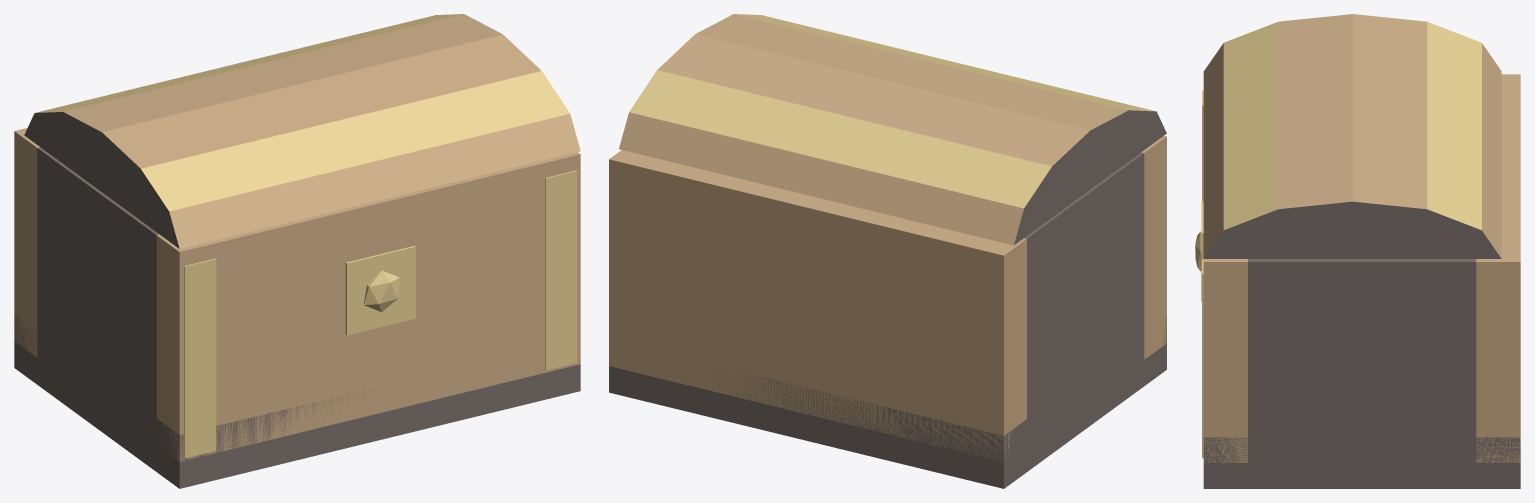
Rendered from world_loot_chest.fbx.
3 views of the same model, side by side, from view 1: azimuth 30°, elevation 25°; view 2: azimuth 150°, elevation 25°; view 3: azimuth 270°, elevation 25° (orthographic). The views are drawn at different scales.
Visible parts, largest first — view 1: Body, Lid; view 2: Body, Lid; view 3: Body, Lid.
Part boxes in pixels (x1,y1,x2,y2): Body: [14, 128, 580, 488]; Lid: [24, 14, 580, 248]; Body: [609, 136, 1166, 488]; Lid: [619, 14, 1166, 245]; Body: [1195, 74, 1520, 488]; Lid: [1203, 14, 1501, 258].
Size of the model in its own units: 0.7 by 0.5 by 0.5135.
